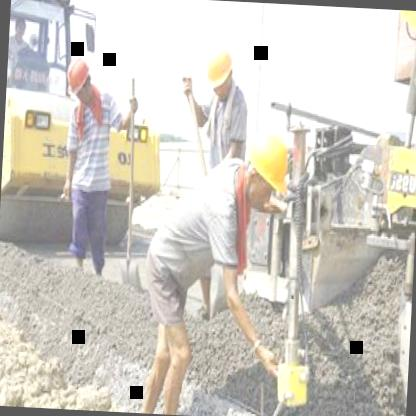helmet: (238, 120, 297, 219), (386, 9, 416, 131), (201, 38, 237, 102), (66, 51, 94, 100)
